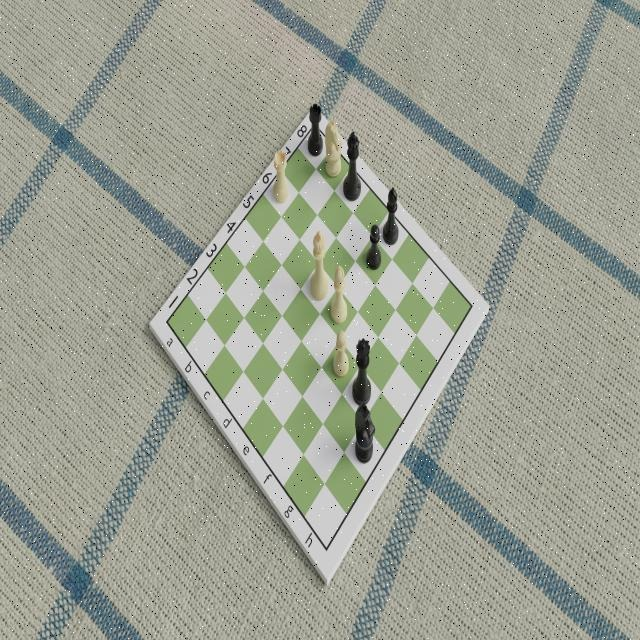black-bishop: (382, 184, 400, 247)
black-king: (341, 129, 363, 203)
black-knight: (354, 401, 377, 467)
black-pawn: (365, 223, 383, 271)
black-queen: (351, 337, 373, 409)
black-rook: (306, 101, 324, 158)
white-bishop: (329, 262, 349, 325)
white-king: (307, 230, 330, 302)
white-knight: (324, 118, 344, 178)
white-pawn: (331, 328, 351, 380)
white-rook: (272, 147, 290, 204)
